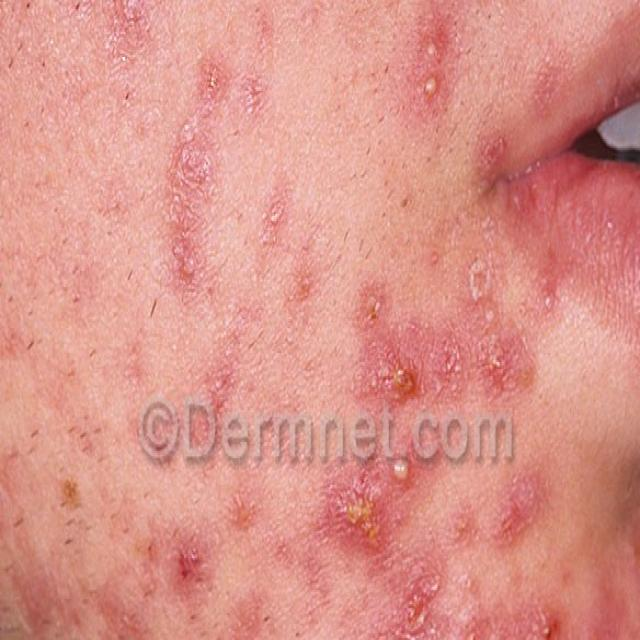Acne: (161, 34, 574, 640), (303, 244, 536, 554), (0, 306, 146, 640), (364, 3, 481, 167), (355, 592, 621, 640)
